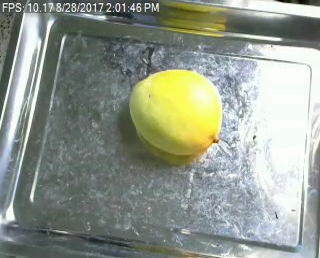Mango: (129, 68, 223, 154)
